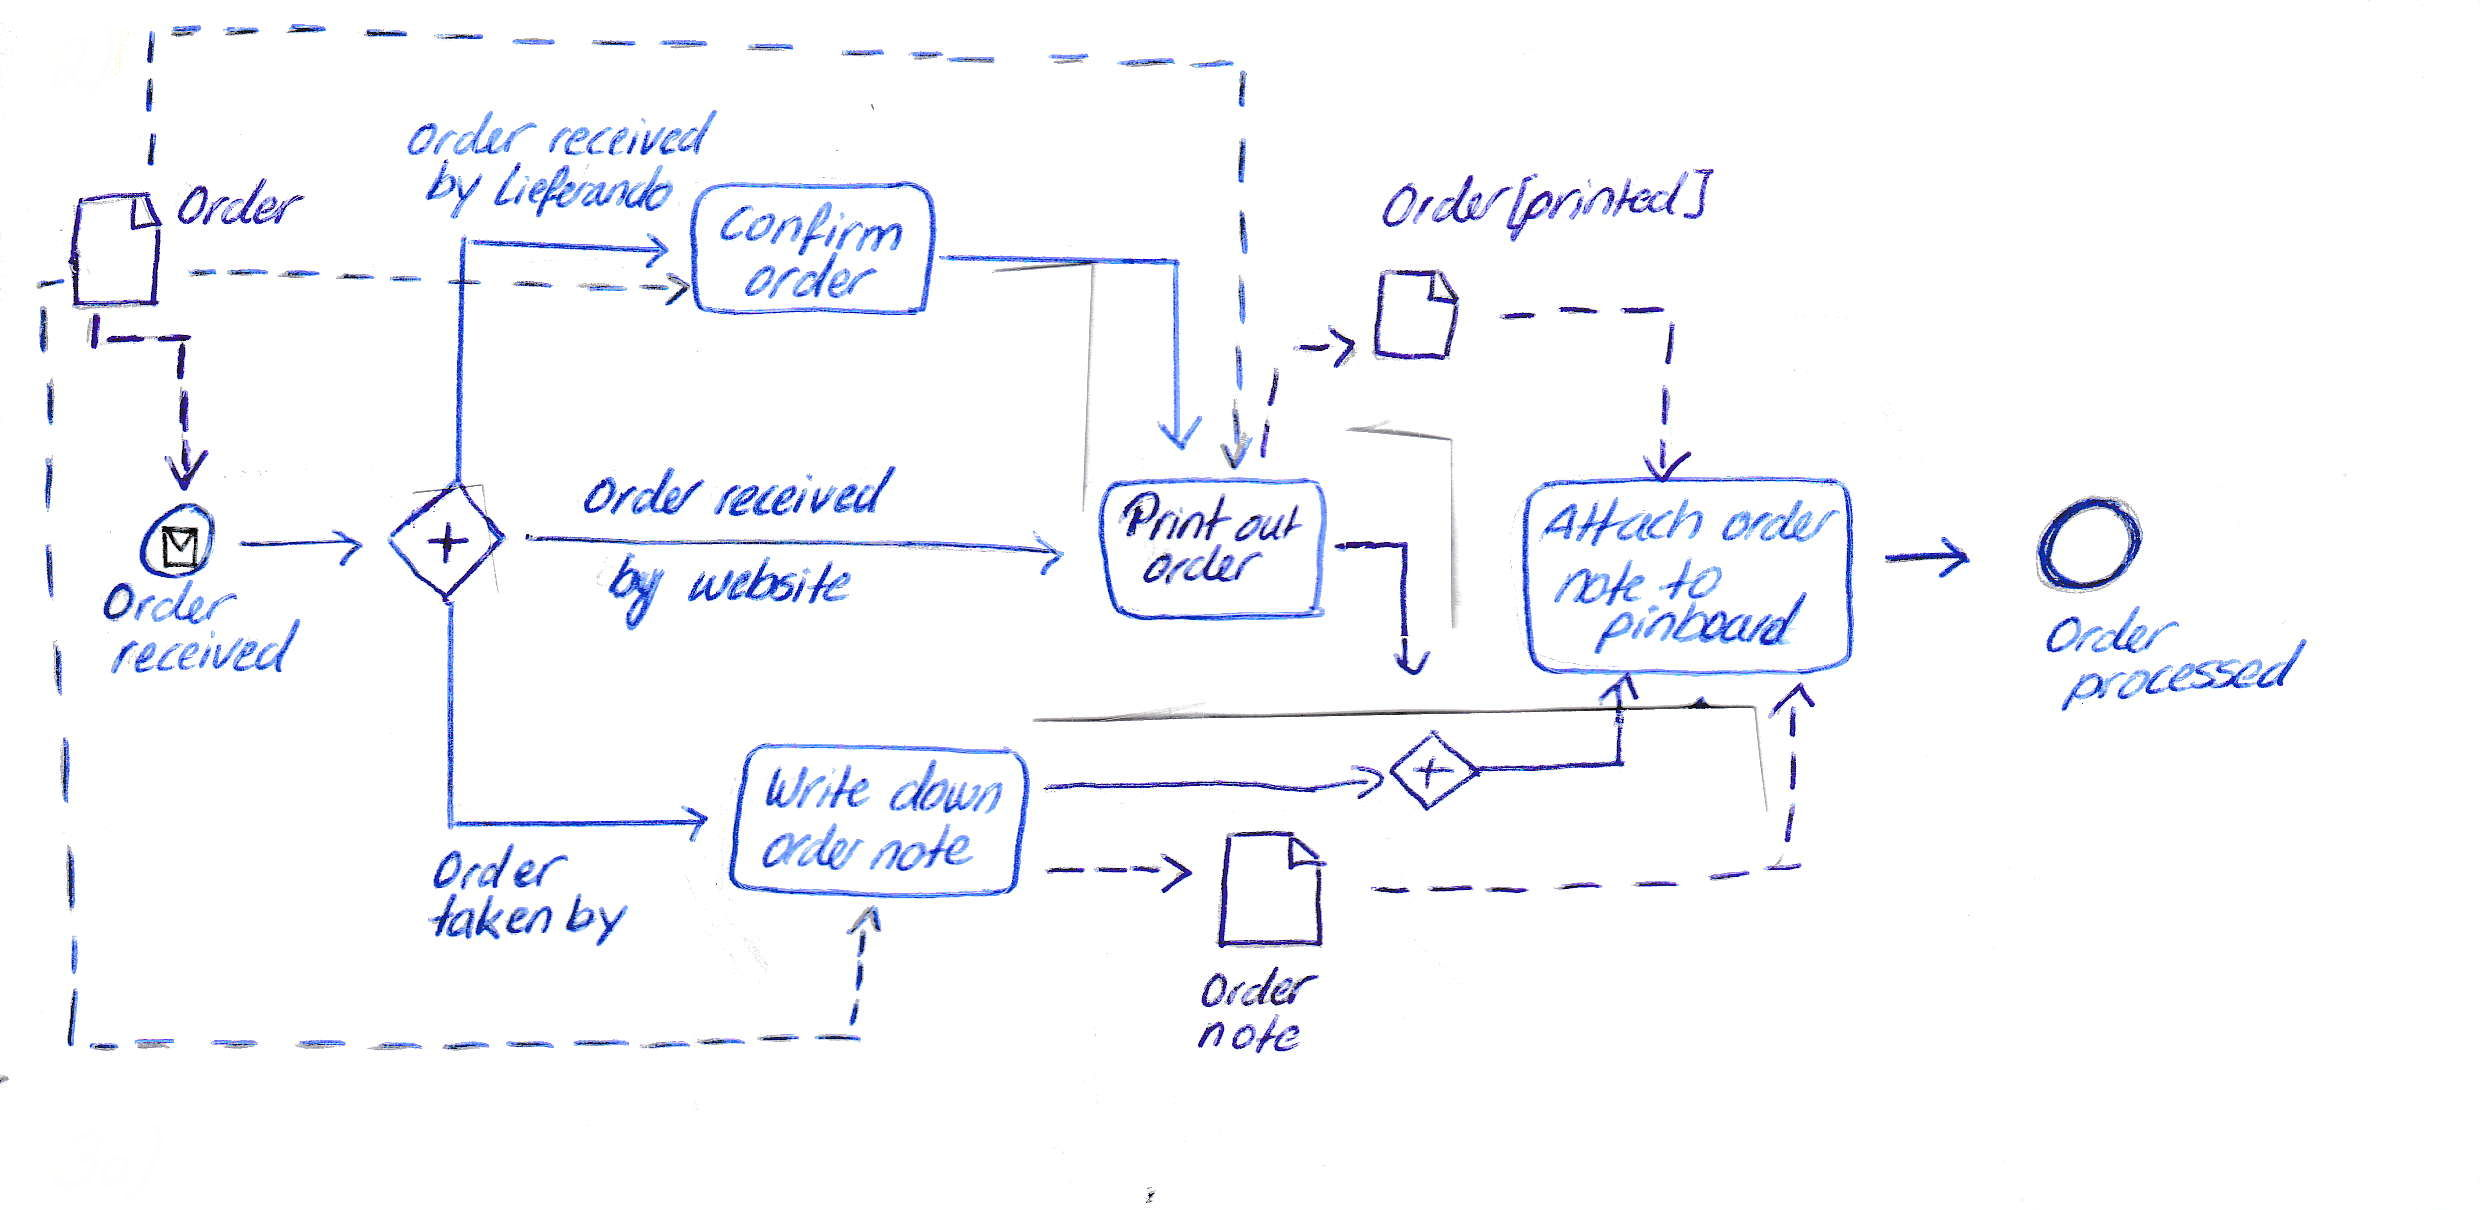Attach: (1537, 495, 1708, 546)
Lieferando: (489, 161, 677, 220)
Order: (1378, 171, 1512, 231), (2042, 604, 2184, 656), (430, 841, 574, 892), (582, 467, 710, 520), (174, 180, 305, 229), (100, 580, 239, 623), (1200, 970, 1317, 1011)
Print: (1118, 489, 1227, 546)
Write: (761, 761, 876, 815)
[printed]: (1506, 168, 1718, 247)
by: (603, 550, 669, 633), (563, 890, 633, 946), (425, 161, 484, 218)
confirm: (715, 198, 906, 256)
down: (887, 756, 1009, 818)
note: (867, 818, 979, 875), (1197, 1012, 1303, 1057), (1553, 560, 1651, 607)
order: (740, 248, 879, 301), (405, 111, 542, 160), (761, 819, 864, 876), (1142, 543, 1265, 588), (1721, 498, 1843, 544)
out: (1234, 505, 1303, 546)
pinboard: (1593, 595, 1808, 652)
processed: (2056, 641, 2319, 712)
received: (104, 622, 304, 679), (709, 467, 897, 522), (546, 109, 723, 157)
taken: (429, 890, 558, 943)
to: (1658, 557, 1722, 606)
website: (685, 557, 857, 606)
